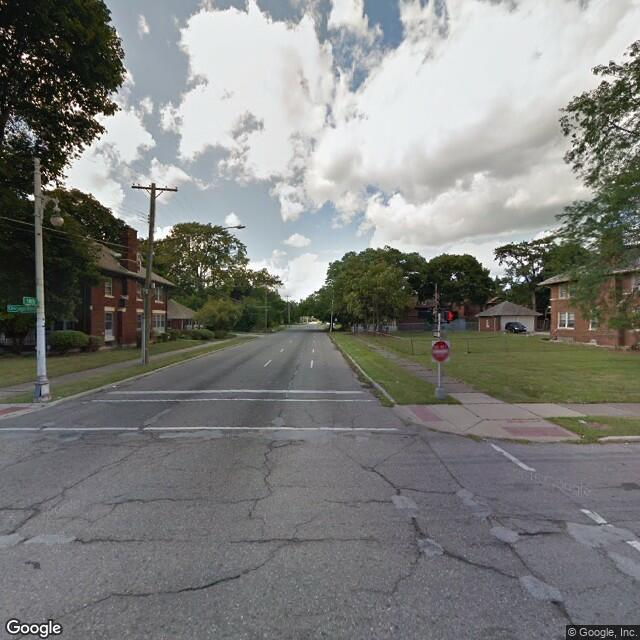litter: (578, 419, 590, 425), (394, 377, 401, 383), (110, 384, 117, 388)
